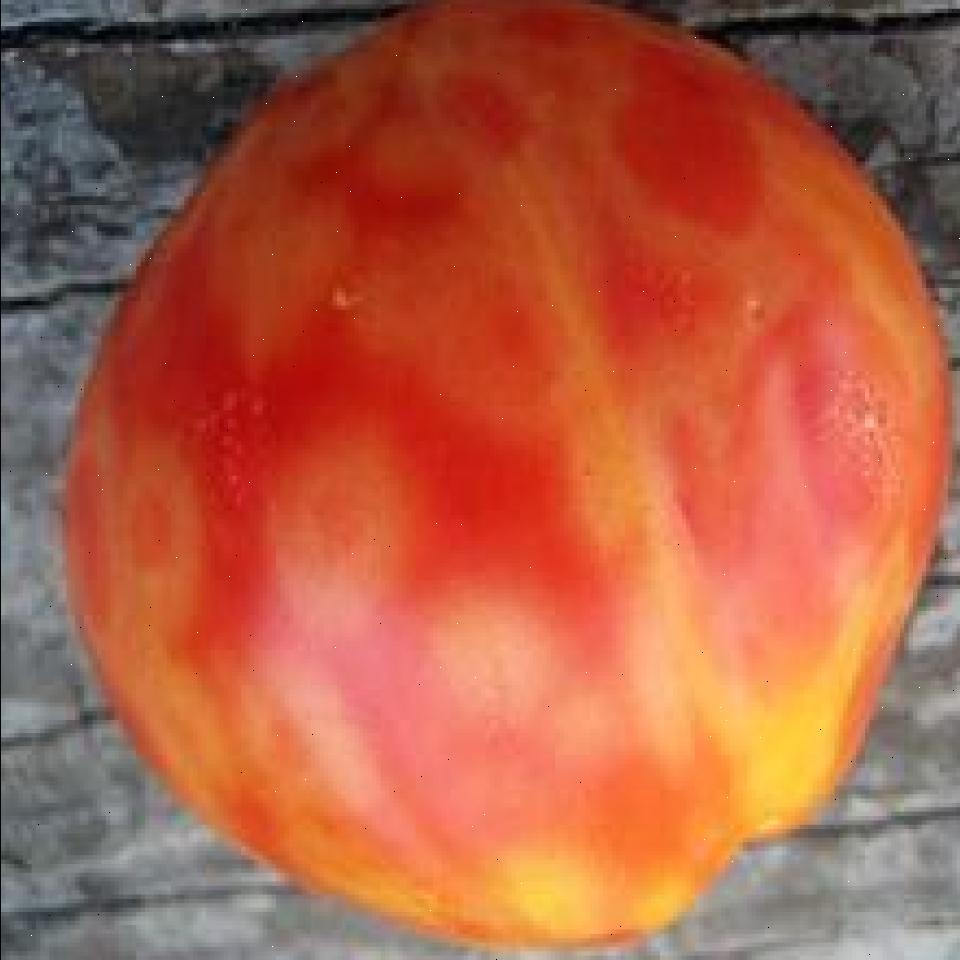Spotted wilt Virus: (52, 0, 942, 956)
